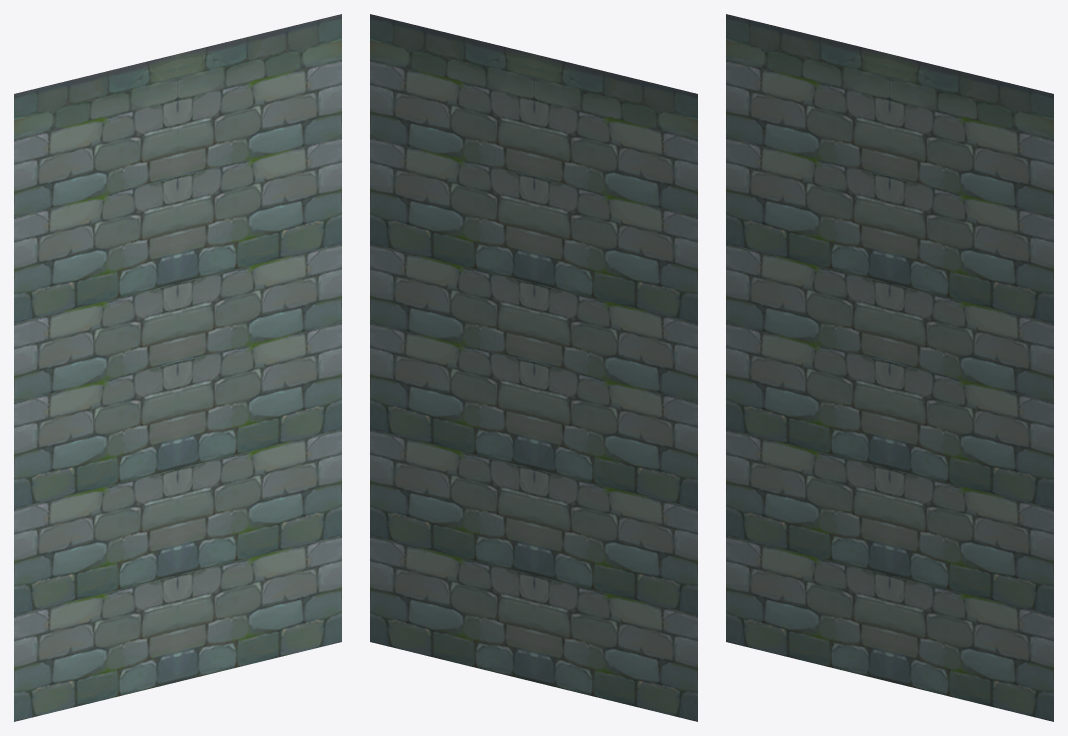
File: Map_06_wall07.FBX
The picture shows the model from 3 angles, left to right: view 1: azimuth 30°, elevation 25°; view 2: azimuth 150°, elevation 25°; view 3: azimuth 330°, elevation 25°; orthographic projection.
Visible parts, largest first — view 1: Map_06_wall07; view 2: Map_06_wall07; view 3: Map_06_wall07.
Boxes of the visible parts, bbox=[...] form: Map_06_wall07: bbox=[14, 14, 341, 721]; Map_06_wall07: bbox=[370, 14, 697, 721]; Map_06_wall07: bbox=[726, 14, 1053, 721].
Bounding box in the file's own units: 751 × 1374 × 0.000661.
